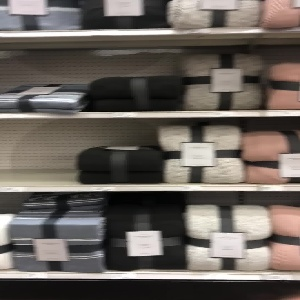void: (1, 117, 77, 185)
